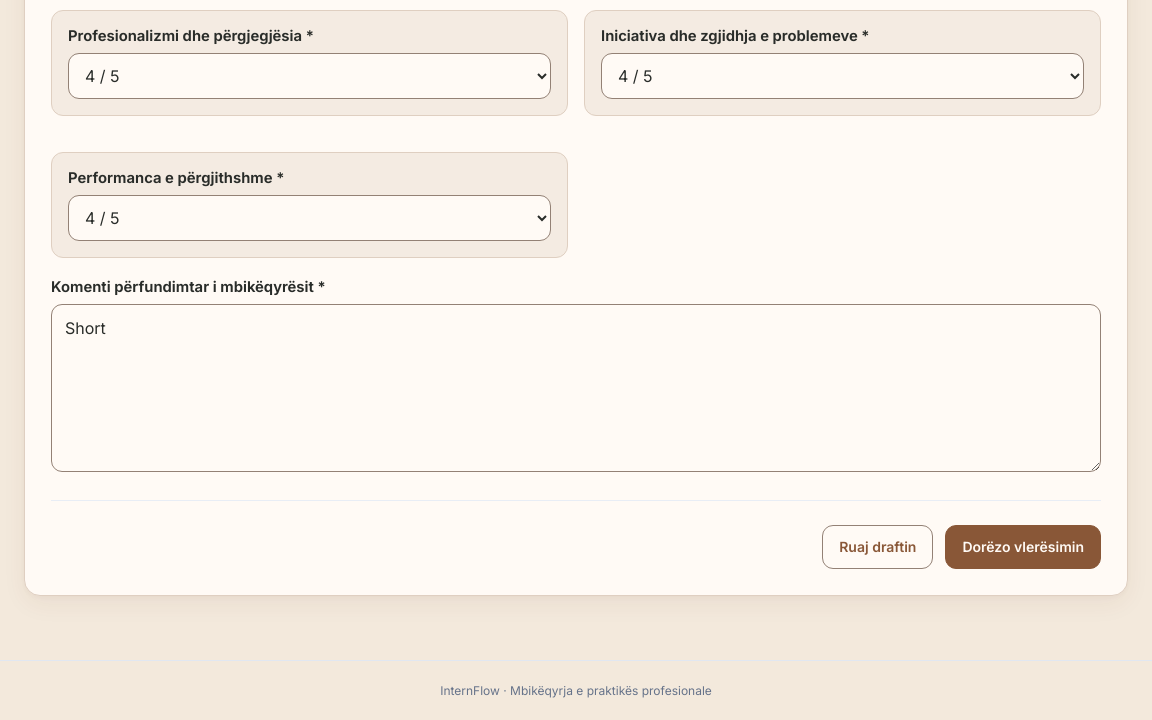
Test case: validates missing criteria and meaningful comments before opening confirmation
(page scrolled)
Step 1. Click the button "Dorëzo vlerësimin" → x=1023, y=547, box [945,525,1101,569]
(page scrolled)
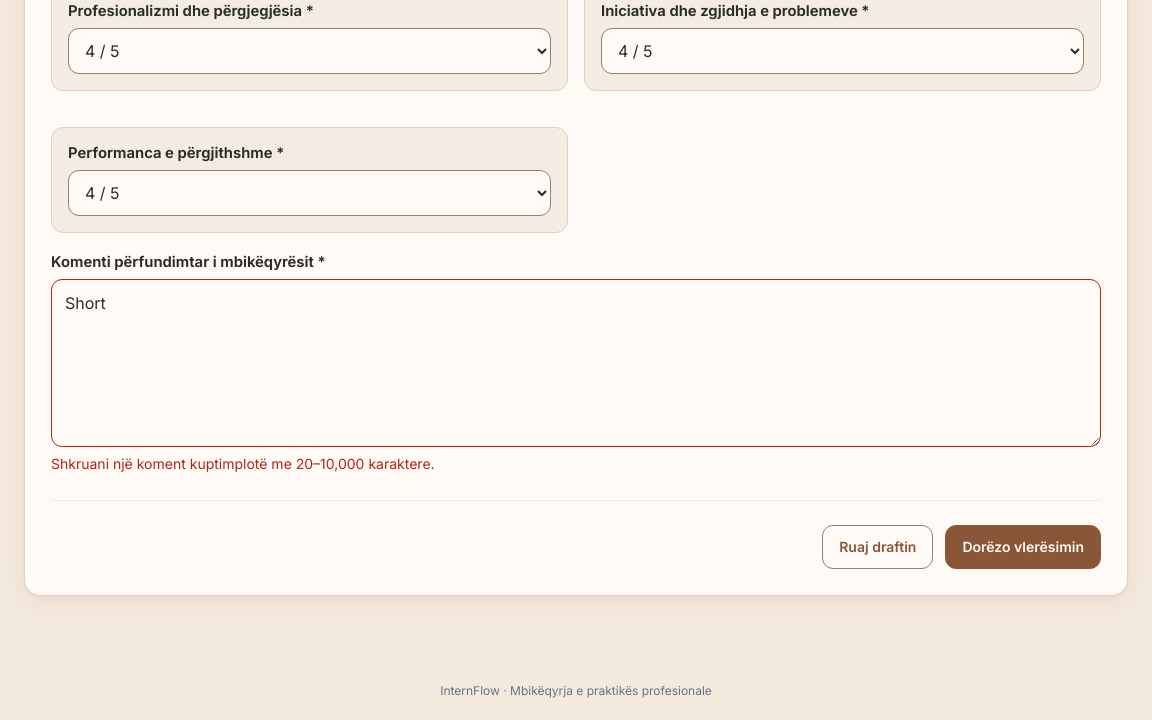
Now the text "Shkruani një koment kuptimplotë me 20–10,000 karaktere." is shown, box [51,455,435,472]
